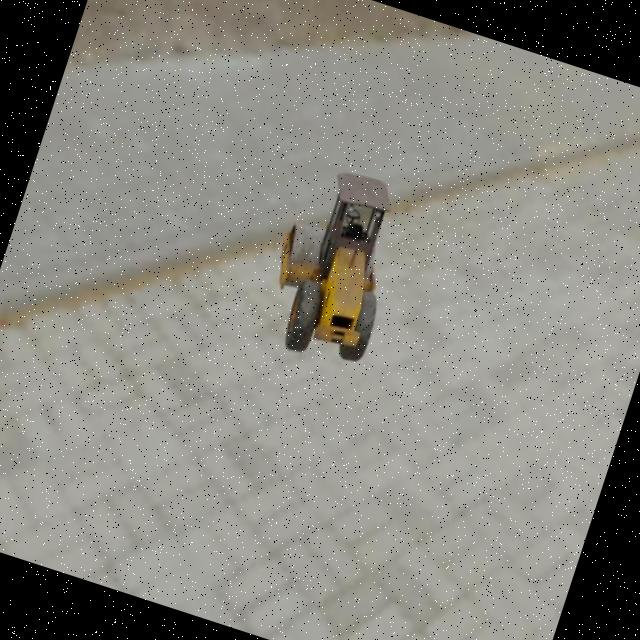Roller: (251, 156, 418, 373)
